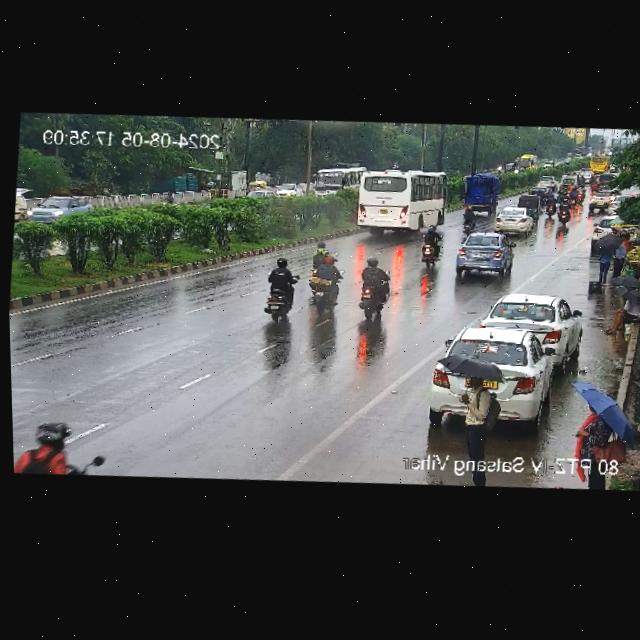bus: (344, 163, 451, 246), (305, 162, 353, 198)
car: (432, 320, 554, 404), (482, 288, 582, 364), (456, 227, 517, 279), (24, 192, 97, 229), (491, 204, 535, 236), (588, 188, 615, 214), (517, 192, 541, 221), (606, 191, 628, 217)
motorcycle: (352, 251, 394, 328), (299, 249, 345, 319), (254, 255, 302, 322), (305, 230, 329, 267), (418, 227, 439, 267), (557, 195, 571, 224), (564, 183, 583, 204), (463, 205, 476, 234), (544, 192, 556, 217), (577, 173, 586, 187), (590, 181, 598, 195), (536, 188, 543, 201)
person: (449, 372, 503, 458), (572, 400, 613, 463), (586, 227, 630, 283), (597, 284, 640, 341)
